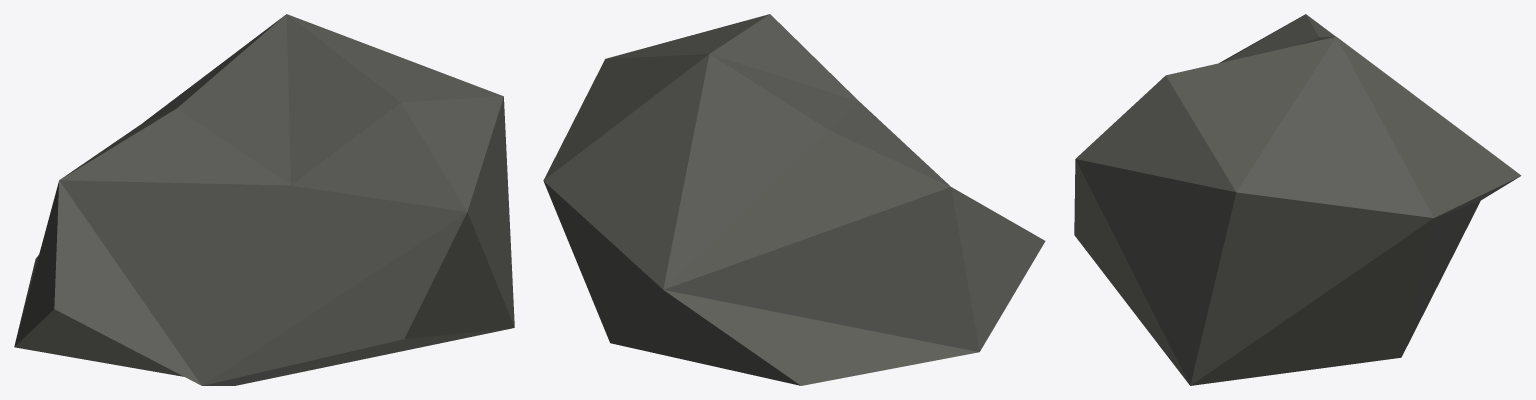
Rendered from AKMENS_001.FBX.
3 views of the same model, side by side, from view 1: azimuth 30°, elevation 25°; view 2: azimuth 150°, elevation 25°; view 3: azimuth 270°, elevation 25° (orthographic). The views are drawn at different scales.
Visible parts, largest first — view 1: AKMENS_001; view 2: AKMENS_001; view 3: AKMENS_001.
Boxes of the visible parts, x1,y1,x2,y2 form: AKMENS_001: (14,14,514,385); AKMENS_001: (543,14,1045,385); AKMENS_001: (1074,14,1521,385).
Bounding box in the file's own units: 3018 × 1896 × 2672.
1 material, 1 textured.
